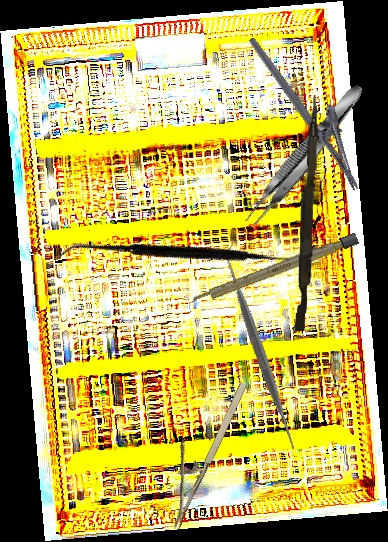Needle Holder: (247, 21, 381, 193), (144, 370, 252, 531)
Pusher: (294, 94, 320, 332)
Scalpel Handle: (188, 232, 360, 308)
Spatula Surgical: (55, 144, 311, 365), (152, 244, 368, 458)
Tissue Forceps: (239, 79, 371, 232)
